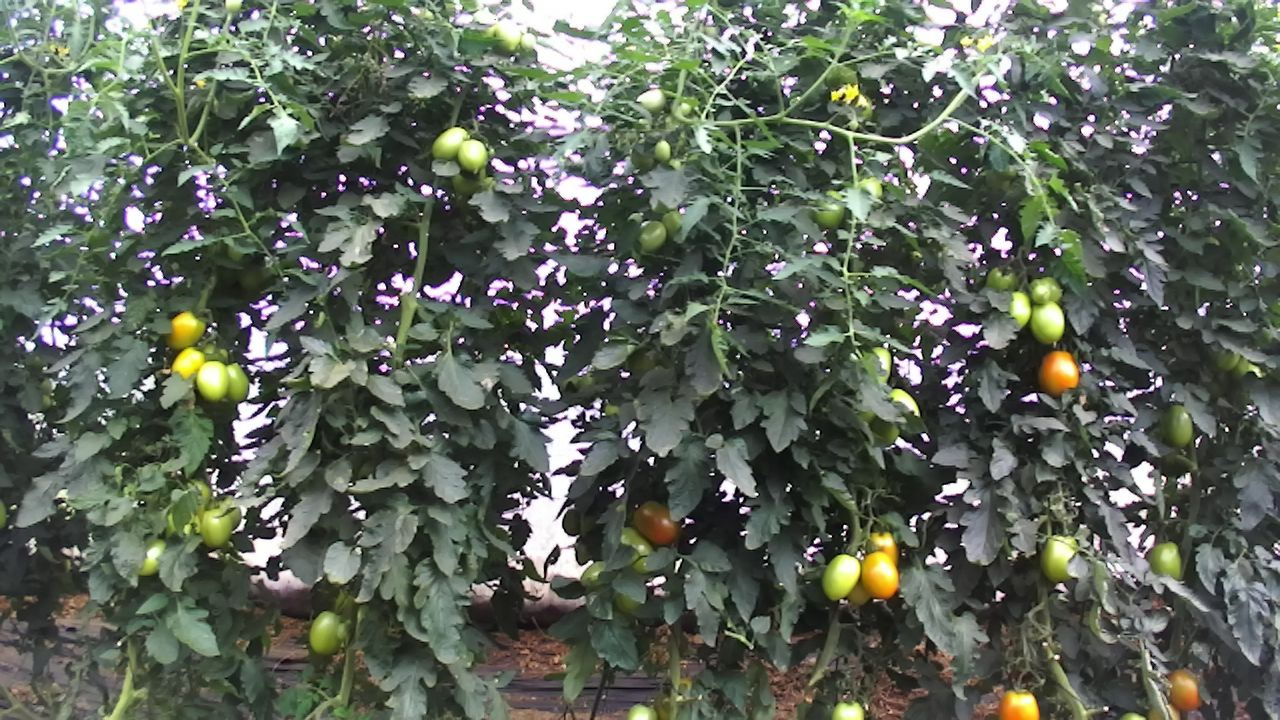tomato: (633, 498, 682, 549), (856, 549, 901, 601), (819, 551, 862, 603), (1038, 348, 1080, 400), (1039, 534, 1079, 584), (1163, 667, 1206, 713), (162, 307, 208, 350), (306, 608, 345, 657), (1027, 300, 1067, 347), (1157, 403, 1194, 448), (195, 357, 230, 404), (199, 506, 233, 551), (1150, 539, 1184, 583), (996, 687, 1041, 720), (429, 124, 470, 160), (455, 136, 489, 176), (170, 344, 206, 381), (635, 218, 668, 256), (223, 361, 250, 404), (983, 263, 1015, 292), (1010, 287, 1033, 327), (826, 698, 865, 720), (1028, 276, 1052, 306), (624, 700, 659, 720), (652, 138, 673, 165)
